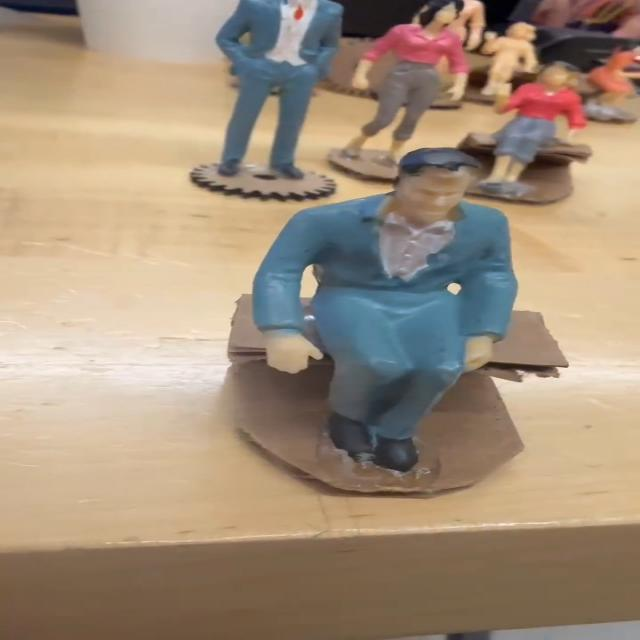Authorized: (238, 148, 532, 497)
